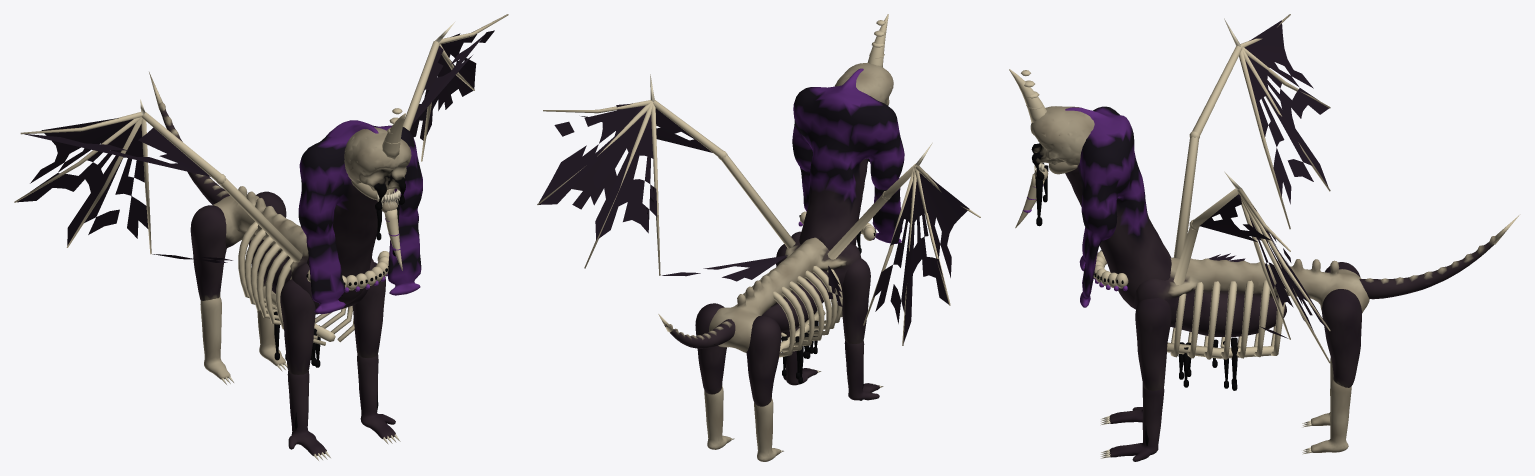
The model's file is esfinge.glb.
The picture shows the model from 3 angles, left to right: view 1: azimuth 30°, elevation 25°; view 2: azimuth 150°, elevation 25°; view 3: azimuth 270°, elevation 25°; orthographic projection. The views are drawn at different scales.
Visible parts, largest first — view 1: P_neck, P_wingR, P_torso, P_wingL, P_head, P_legBR, P_legFR, P_legFL, P_kneeFL, P_kneeFR, P_kneeBR, P_jaw (+2 smaller); view 2: P_neck, P_wingL, P_torso, P_wingR, P_legBR, P_legFR, P_head, P_legBL, P_kneeFR, P_tail, P_kneeBL, P_kneeBR (+1 smaller); view 3: P_torso, P_neck, P_wingR, P_wingL, P_head, P_legBL, P_legFL, P_tail, P_kneeFL, P_kneeBL, P_jaw.
Part boxes in pixels (left/top/right/bottom): P_neck: left=298, top=120, right=422, bottom=313; P_wingR: left=14, top=99, right=302, bottom=262; P_torso: left=213, top=186, right=374, bottom=367; P_wingL: left=403, top=14, right=508, bottom=161; P_head: left=344, top=108, right=411, bottom=210; P_legBR: left=190, top=205, right=226, bottom=300; P_legFR: left=280, top=279, right=315, bottom=374; P_legFL: left=352, top=262, right=385, bottom=357; P_kneeFL: left=357, top=354, right=400, bottom=444; P_kneeFR: left=287, top=371, right=330, bottom=460; P_kneeBR: left=200, top=297, right=233, bottom=384; P_jaw: left=351, top=180, right=402, bottom=270; P_neck: left=792, top=68, right=904, bottom=253; P_wingL: left=537, top=74, right=795, bottom=281; P_torso: left=709, top=231, right=861, bottom=383; P_wingR: left=827, top=142, right=980, bottom=345; P_legBR: left=746, top=315, right=781, bottom=406; P_legFR: left=842, top=258, right=870, bottom=343; P_head: left=834, top=14, right=893, bottom=105; P_legBL: left=695, top=303, right=726, bottom=394; P_kneeFR: left=844, top=340, right=883, bottom=400; P_tail: left=658, top=314, right=735, bottom=348; P_kneeBL: left=704, top=386, right=734, bottom=449; P_kneeBR: left=754, top=398, right=783, bottom=461; P_torso: left=1134, top=257, right=1369, bottom=390; P_neck: left=1065, top=106, right=1171, bottom=309; P_wingR: left=1173, top=14, right=1330, bottom=261; P_wingL: left=1173, top=171, right=1330, bottom=363; P_head: left=1009, top=69, right=1094, bottom=179; P_legBL: left=1321, top=289, right=1361, bottom=387; P_legFL: left=1135, top=298, right=1171, bottom=390; P_tail: left=1359, top=214, right=1520, bottom=299; P_kneeFL: left=1100, top=387, right=1164, bottom=461; P_kneeBL: left=1302, top=378, right=1351, bottom=454; P_jaw: left=1015, top=162, right=1077, bottom=228.
Bounding box in the file's own units: 3.52 × 2.57 × 3.22.
